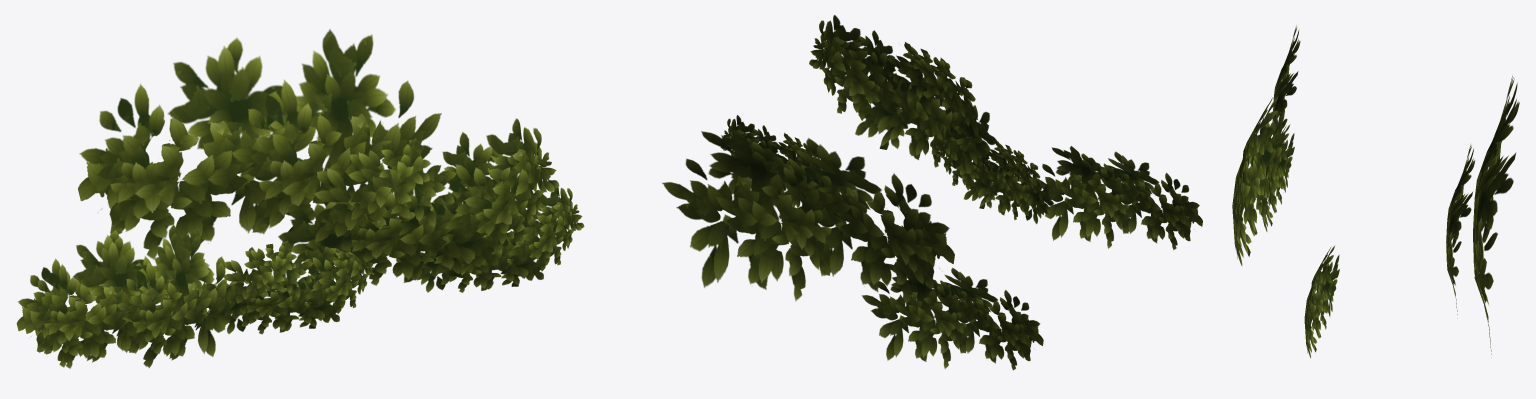
The model's file is liefsfin_02.glb.
3 views of the same model, side by side, from view 1: azimuth 30°, elevation 25°; view 2: azimuth 150°, elevation 25°; view 3: azimuth 270°, elevation 25° (orthographic). The views are drawn at different scales.
Parts seen in each view (by area): view 1: Liefs_0sssssssssssss; view 2: Liefs_0sssssssssssss; view 3: Liefs_0sssssssssssss.
Boxes of the visible parts, bbox=[...] form: Liefs_0sssssssssssss: bbox=[16, 29, 584, 368]; Liefs_0sssssssssssss: bbox=[662, 15, 1202, 370]; Liefs_0sssssssssssss: bbox=[1232, 25, 1519, 358].
Bounding box in the file's own units: 0.0421 × 0.02 × 0.0206.
1 material, 1 textured.
